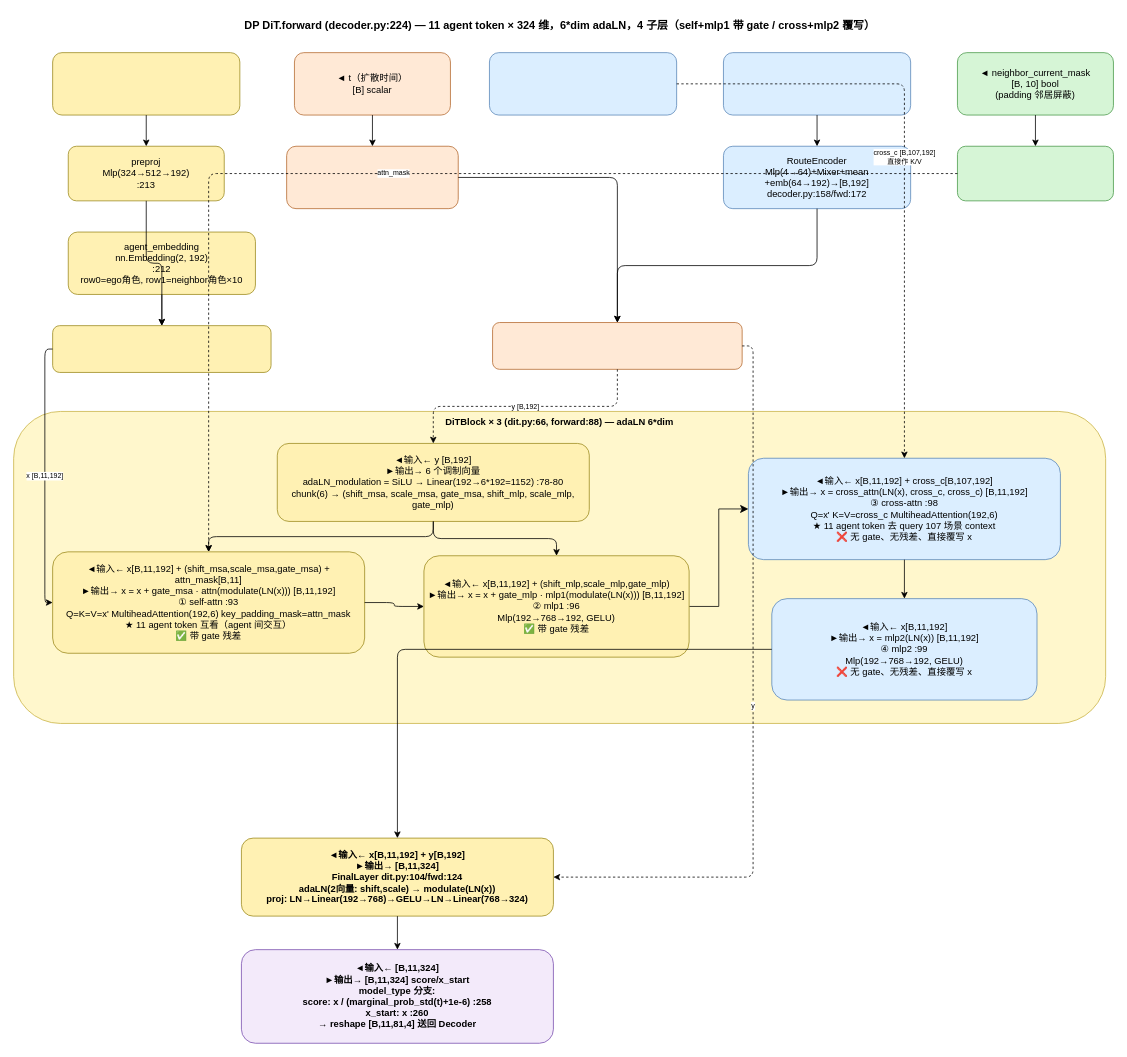
Some shapes in this 1127 by 1057 pixel diagram are drawn without their labels. Here are the shapes that lost their labels. From the top down, the centre of each, then its label:
At point (146, 83): "◄ x（加噪轨迹） [B, 11, 324] (11 agent × 81步×4 展平)".
At point (583, 83): "◄ cross_c（场景上下文） [B, 107, 192] (encoder 输出)".
At point (817, 83): "◄ route_lanes（路由车道） [B, 25, 20, 12]".
At point (372, 177): "t_embedder 正弦(10000)→Linear(256→192) →SiLU→Linear(192→192) :214 dit.py:26".
At point (1035, 173): "attn_mask = zeros[B,11] attn_mask[:,1:] = neighbor_current_mask :246-247".
At point (161, 348): "x = preproj(x) + agent_embedding ► [B, 11, 192]".
At point (617, 345): "y = route_encoding + t_embedder(t) ► [B, 192] (adaLN 条件)".
